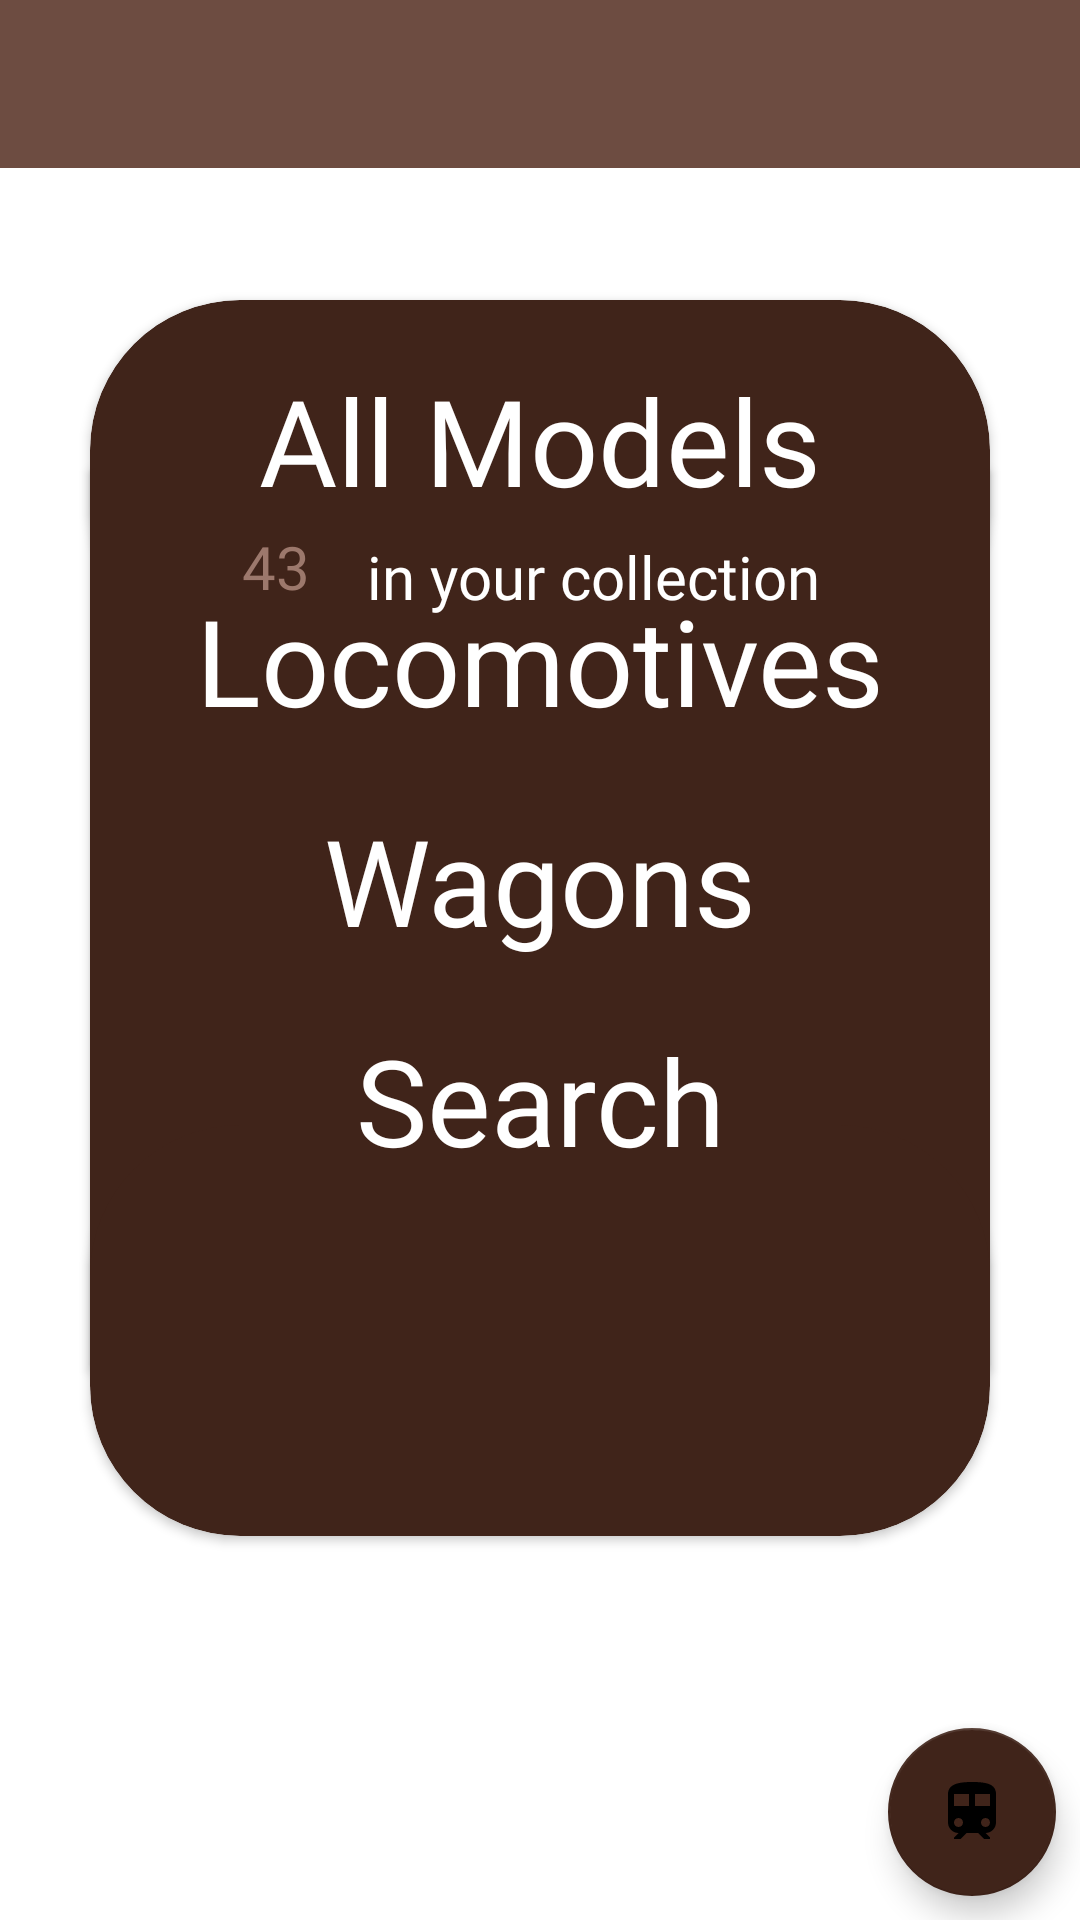

Icons on this 1080x1920 Android screen, each with the point to tap as [x,y]:
add train: [972,1812]
